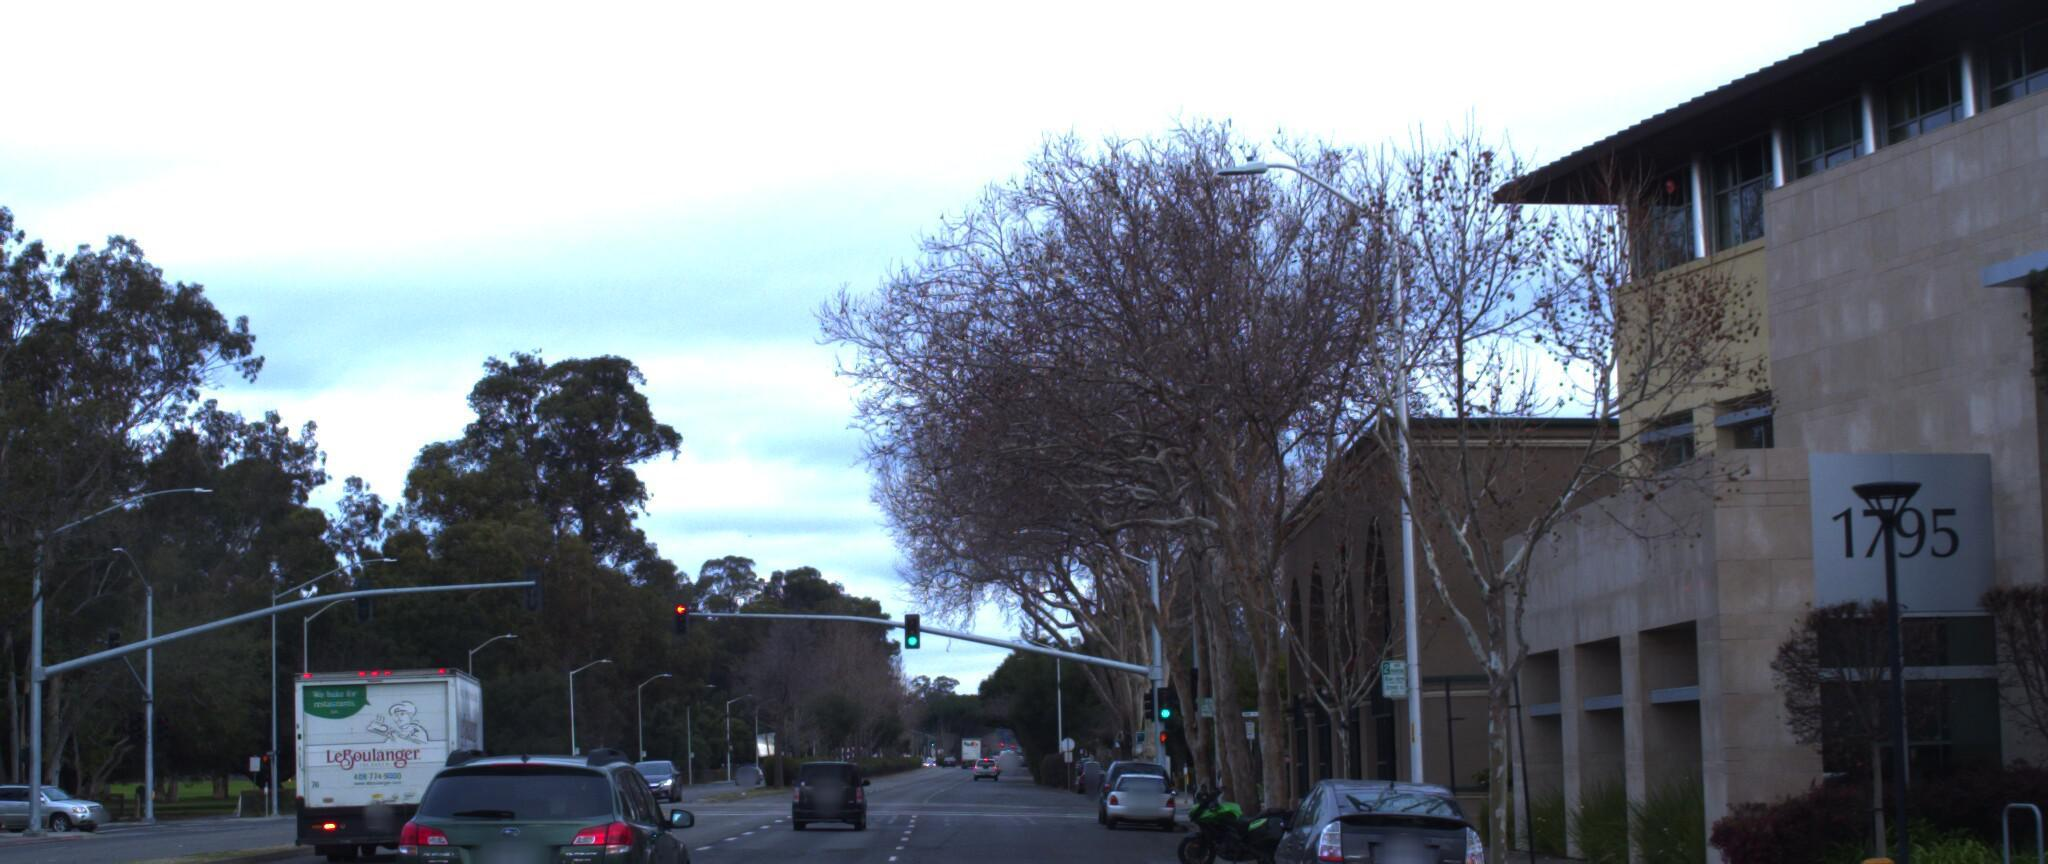car: (368, 728, 707, 864), (1250, 754, 1509, 864), (782, 743, 876, 820), (1104, 752, 1178, 814)
motorcycle: (1159, 748, 1317, 859)
truck: (298, 649, 513, 848)
